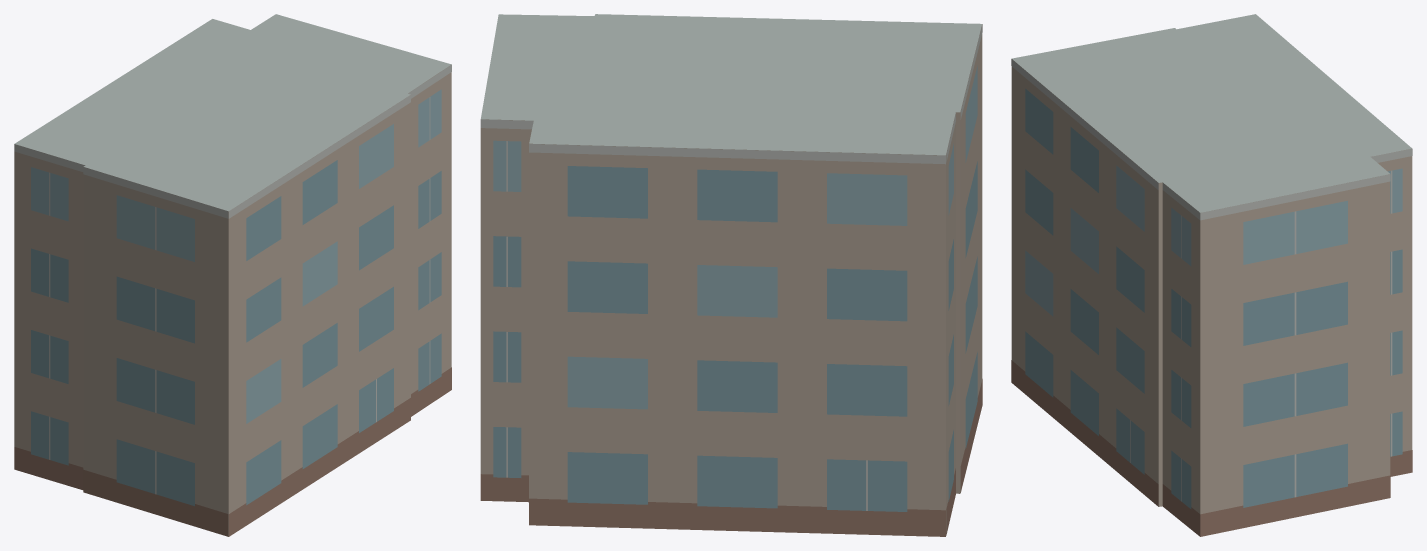
File: survey-upis-32839250.glb
The picture shows the model from 3 angles, left to right: view 1: azimuth 30°, elevation 25°; view 2: azimuth 150°, elevation 25°; view 3: azimuth 270°, elevation 25°; orthographic projection. The views are drawn at different scales.
Parts seen in each view (by area): view 1: survey-upis-32839250.tmp; view 2: survey-upis-32839250.tmp; view 3: survey-upis-32839250.tmp.
Boxes of the visible parts, bbox=[...] form: survey-upis-32839250.tmp: bbox=[14, 14, 451, 536]; survey-upis-32839250.tmp: bbox=[480, 14, 982, 536]; survey-upis-32839250.tmp: bbox=[1011, 14, 1412, 536].
Size of the model in its own units: 13.9 by 10.55 by 11.84.
